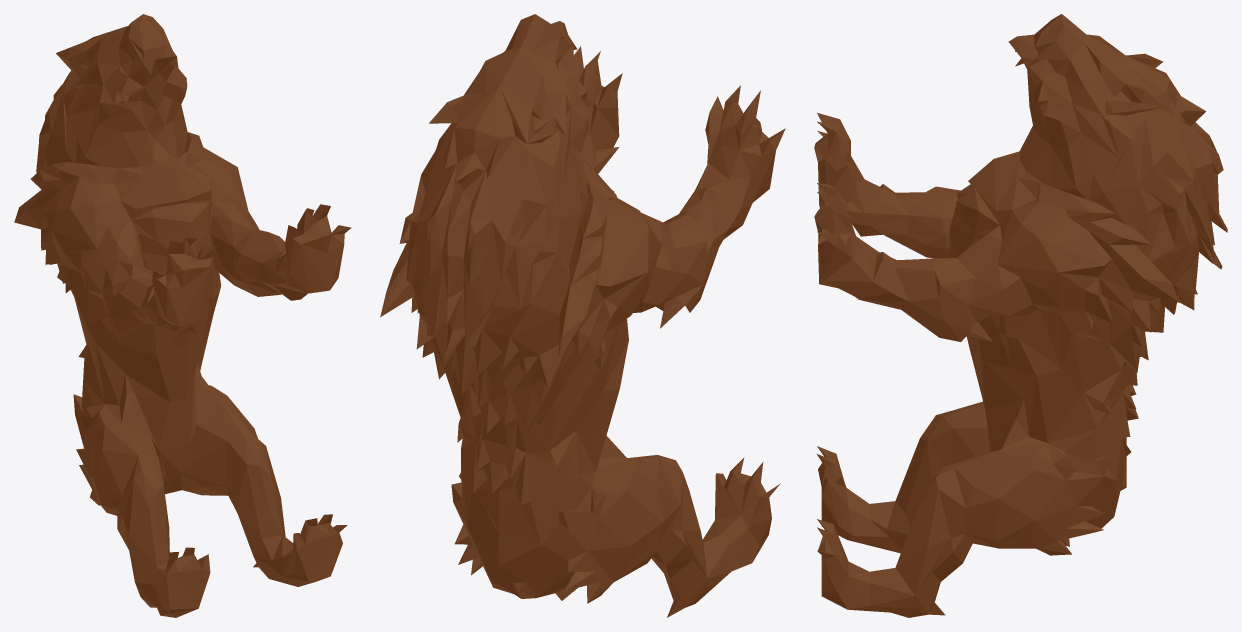
File: ashfang-hound.glb
3 renders of one model, left to right at view 1: azimuth 30°, elevation 25°; view 2: azimuth 150°, elevation 25°; view 3: azimuth 270°, elevation 25°, orthographic. The views are drawn at different scales.
Parts seen in each view (by area): view 1: Object_9; view 2: Object_9; view 3: Object_9.
Boxes of the visible parts, <box> form: Object_9: <box>14,14,351,617</box>; Object_9: <box>380,14,785,617</box>; Object_9: <box>814,14,1227,617</box>.
Bounding box in the file's own units: 0.6089 × 1.61 × 1.05.
